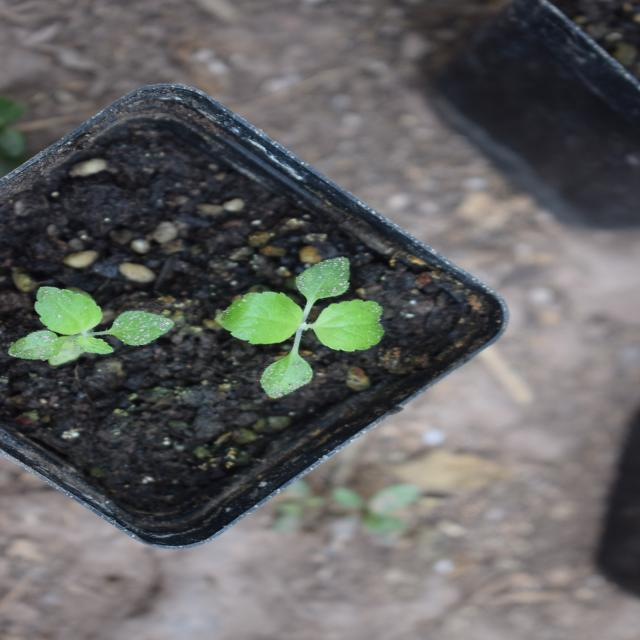billygoat_weed: (234, 232, 401, 440), (276, 458, 368, 620)
